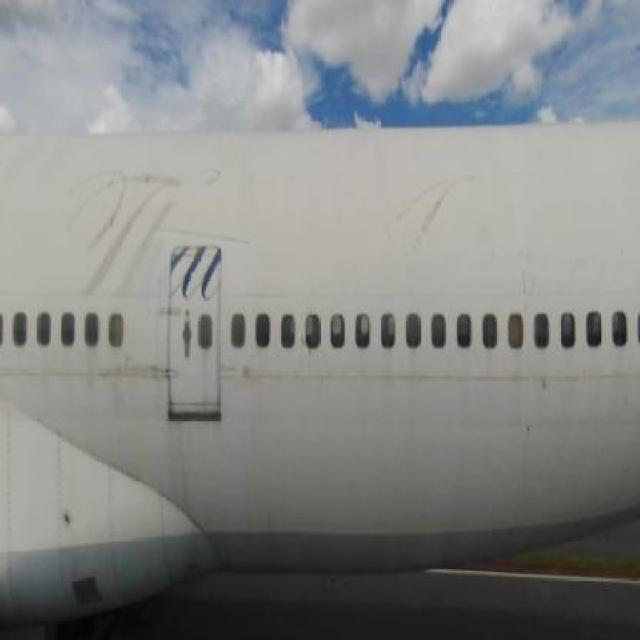Scartch: (66, 155, 174, 303), (388, 164, 462, 271), (111, 358, 182, 392), (219, 358, 259, 388)
